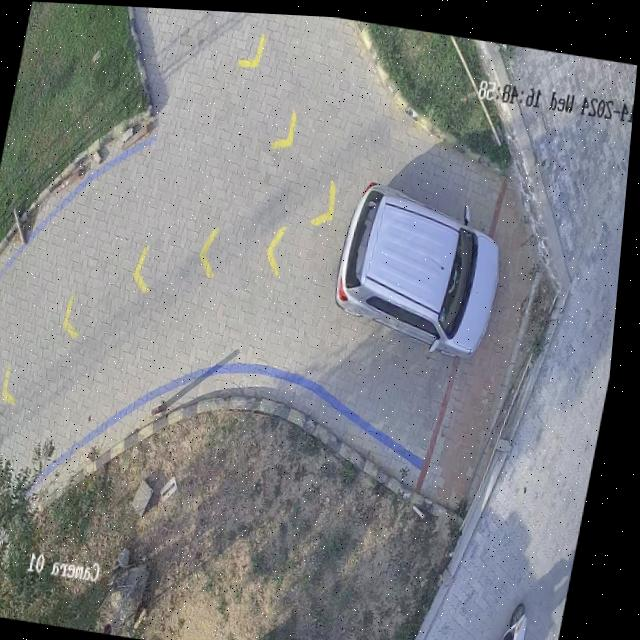car: (340, 179, 503, 352)
